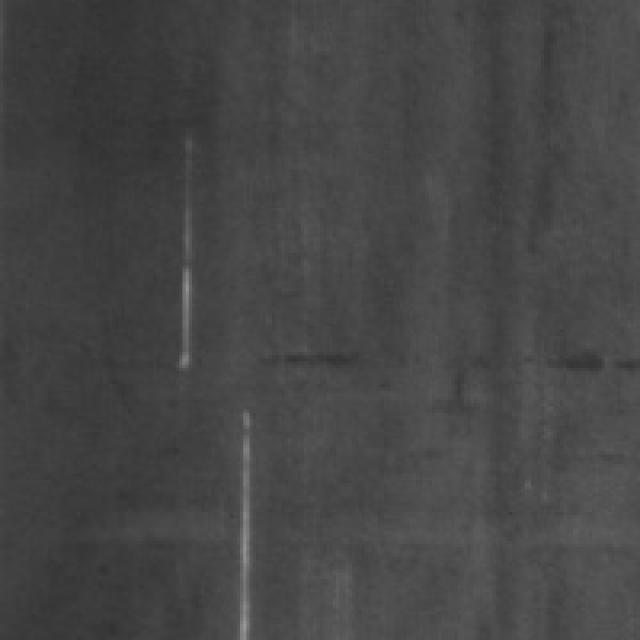scratches: (163, 128, 195, 371), (224, 400, 256, 634)
